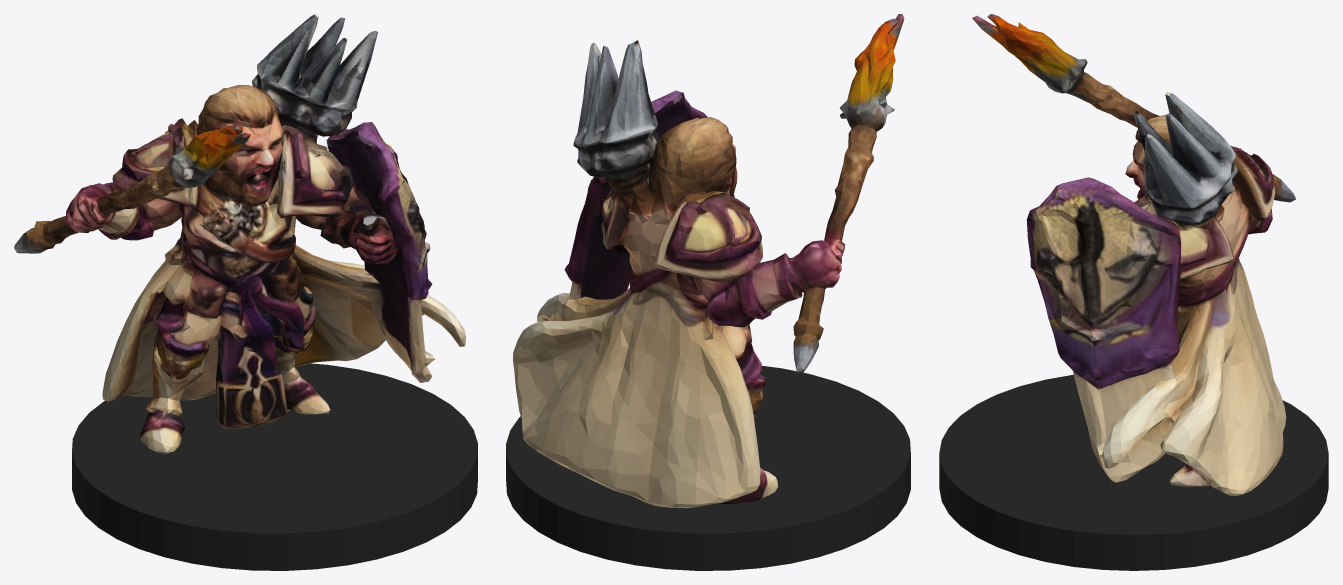
Rendered from wm-pyrrhus.glb.
3 views of the same model, side by side, from view 1: azimuth 30°, elevation 25°; view 2: azimuth 150°, elevation 25°; view 3: azimuth 270°, elevation 25° (orthographic). The views are drawn at different scales.
Visible parts, largest first — view 1: figure, base; view 2: figure, base; view 3: figure, base.
Part boxes in pixels (x1,y1,x2,y2): figure: [14, 14, 465, 453]; base: [72, 363, 477, 570]; figure: [513, 14, 904, 508]; base: [506, 366, 910, 570]; figure: [972, 14, 1295, 495]; base: [939, 374, 1328, 570].
Size of the model in its own units: 1.21 by 1.42 by 1.18.
Materials: 2 (1 with a texture image).
